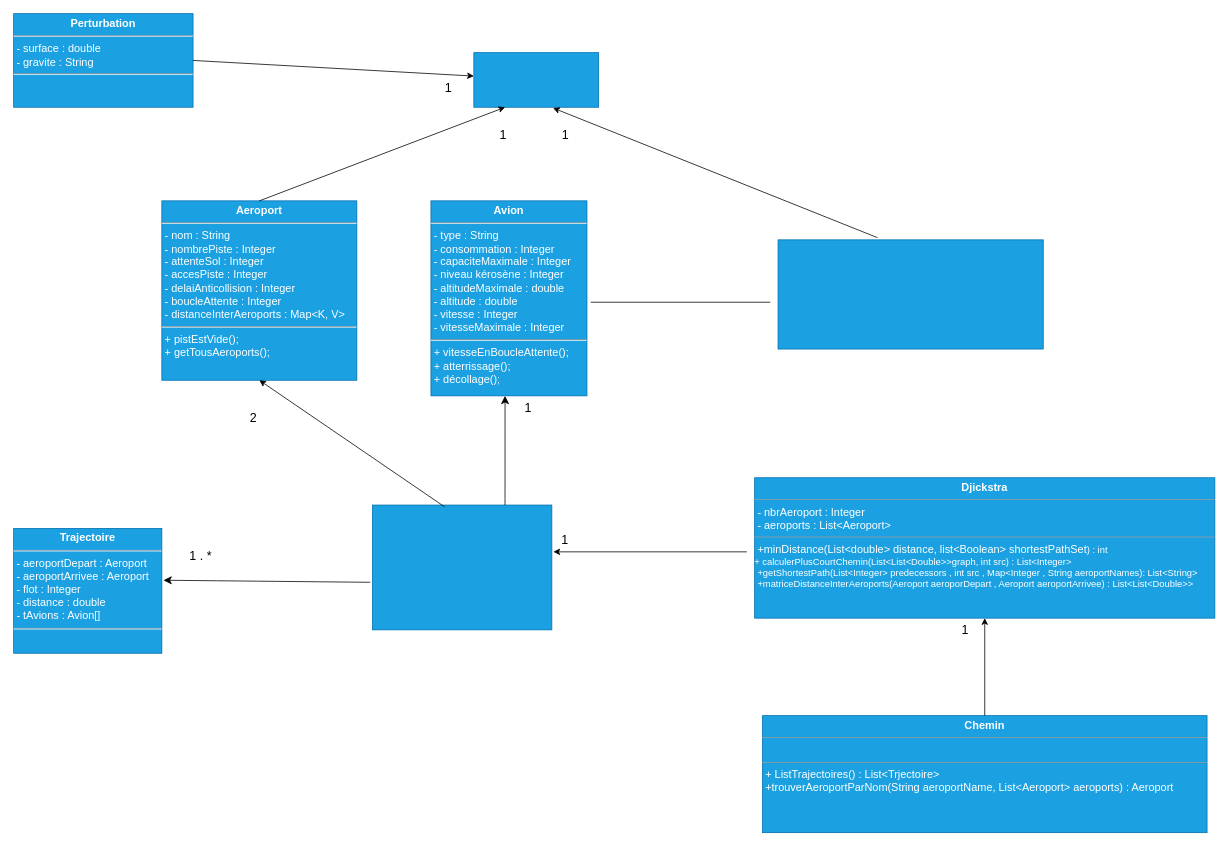
Image size: 1229x846. Some labels were removed from this diagram. Here are the shapes that lost their labels. From the top down, the centre of each, then its label:
At point 536,79: "Coordonne + x : Integer + y : Integer".
At point 910,294: "Fuite - pourcentage : Integer + chercherAeroportPlusProche() : Aeroport".
At point 462,567: "Vol - heureDepart : Date + calculerConsommationParVol();".
